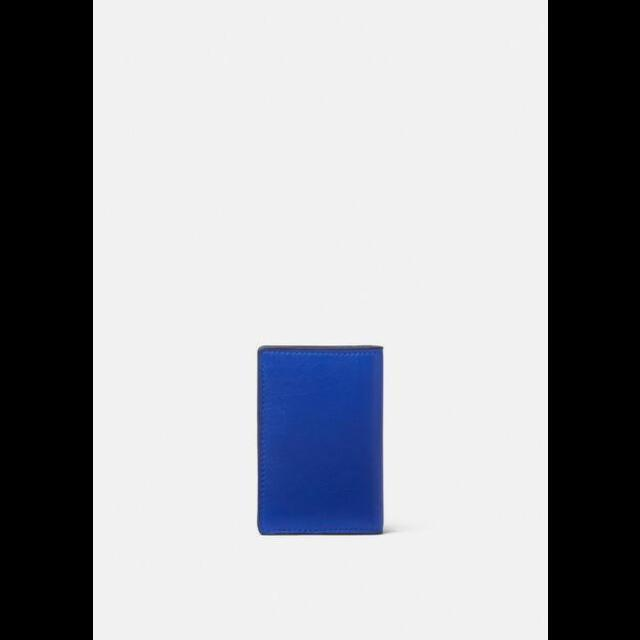wallet: (250, 340, 386, 540)
